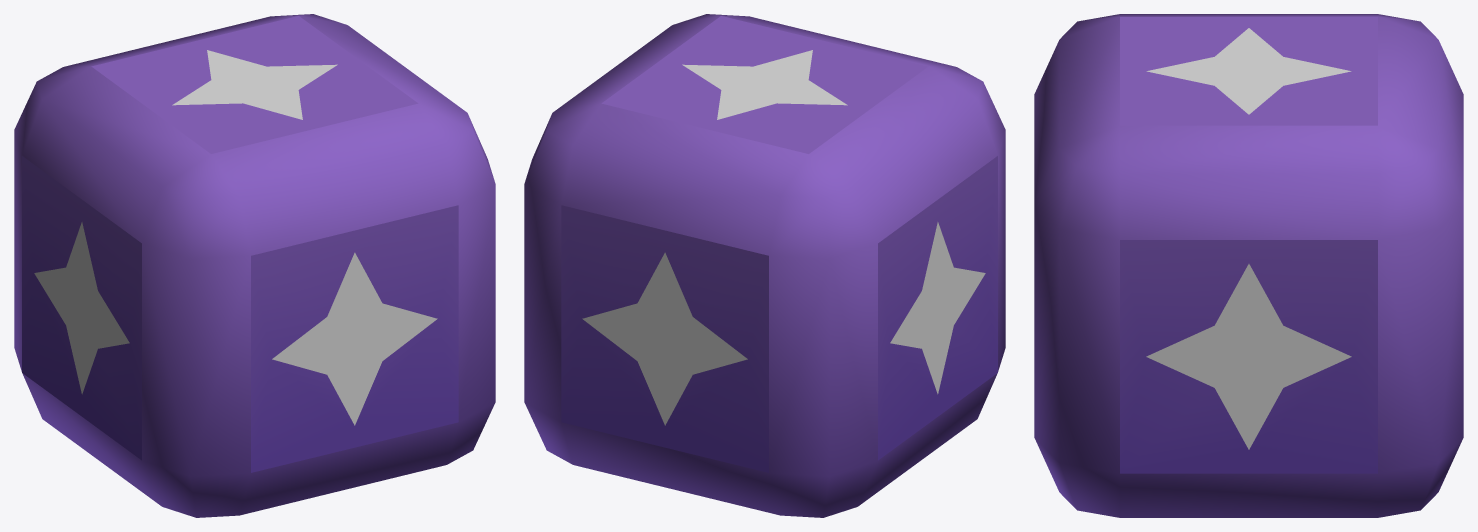
The model's file is item-box.glb.
The picture shows the model from 3 angles, left to right: view 1: azimuth 30°, elevation 25°; view 2: azimuth 150°, elevation 25°; view 3: azimuth 270°, elevation 25°; orthographic projection. The views are drawn at different scales.
Parts seen in each view (by area): view 1: item-box; view 2: item-box; view 3: item-box.
Part boxes in pixels (left/top/right/bottom): item-box: left=14, top=14, right=495, bottom=517; item-box: left=524, top=14, right=1005, bottom=517; item-box: left=1034, top=14, right=1463, bottom=517.
Size of the model in its own units: 0.445 by 0.445 by 0.445.
